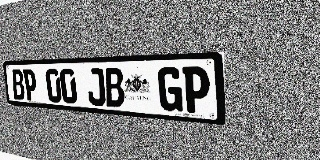0: (59, 68, 77, 104), (45, 69, 62, 103)
B: (104, 68, 125, 108), (11, 69, 26, 100)
G: (158, 67, 183, 112)
J: (86, 68, 106, 106)
P: (183, 66, 210, 114), (23, 69, 38, 101)
